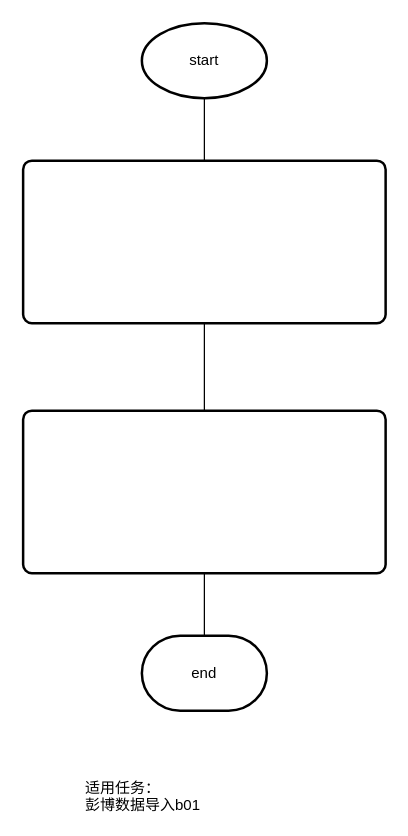
Some shapes in this 408 by 836 pixel diagram are drawn without their labels. The centre of each missing label's shape, as x and y in pixels:
"封装任务执行结果，返回" belongs at [203,491].
"将表中原始数据迁移至历史表中， 将获取的新数据解析计算插入到 当前表中" belongs at [203,241].
